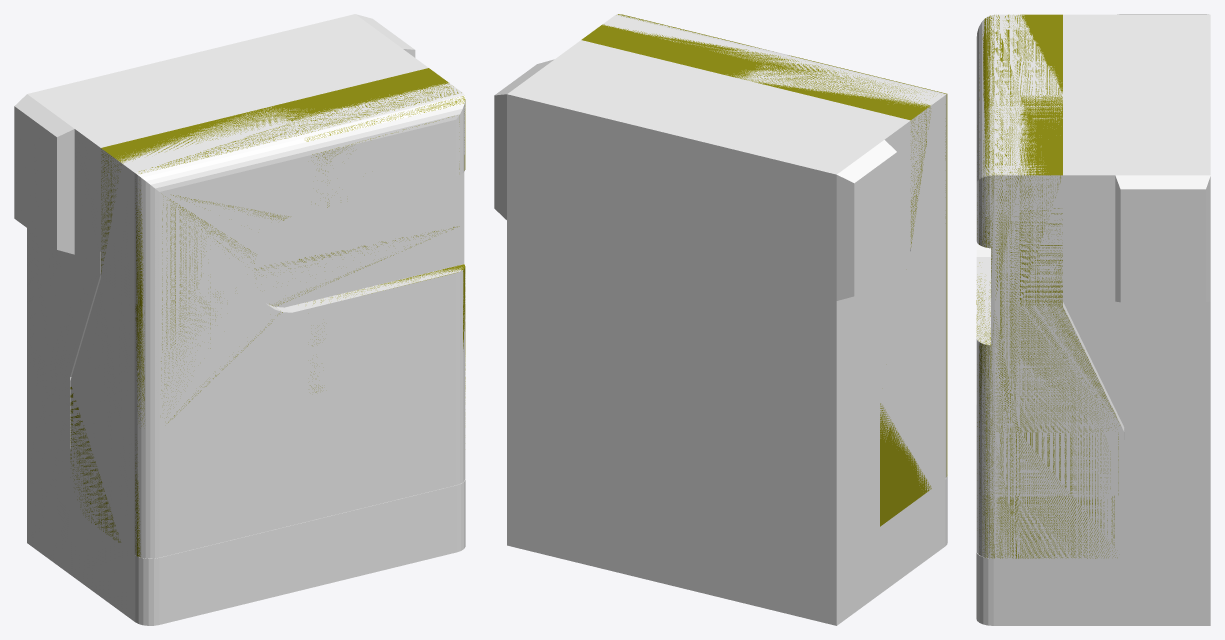
File: prod_P5lI35r2EWTAxi.glb
The picture shows the model from 3 angles, left to right: view 1: azimuth 30°, elevation 25°; view 2: azimuth 150°, elevation 25°; view 3: azimuth 270°, elevation 25°; orthographic projection.
Parts seen in each view (by area): view 1: front-bake, Cube.002, OG, Cube.003; view 2: front-bake, Cube.002, OG, Cube.003; view 3: front-bake, OG, Cube.002, Cube.003.
Boxes of the visible parts, x1,y1,x2,y2 form: front-bake: [14, 14, 465, 625]; Cube.002: [14, 15, 446, 618]; OG: [107, 68, 465, 556]; Cube.003: [70, 69, 449, 542]; front-bake: [494, 14, 947, 625]; Cube.002: [494, 40, 942, 601]; OG: [581, 14, 947, 476]; Cube.003: [596, 24, 931, 526]; front-bake: [976, 14, 1210, 625]; OG: [976, 14, 1119, 558]; Cube.002: [998, 14, 1210, 625]; Cube.003: [1019, 14, 1062, 305].
Size of the model in its own units: 44.3 by 53.06 by 25.04.
